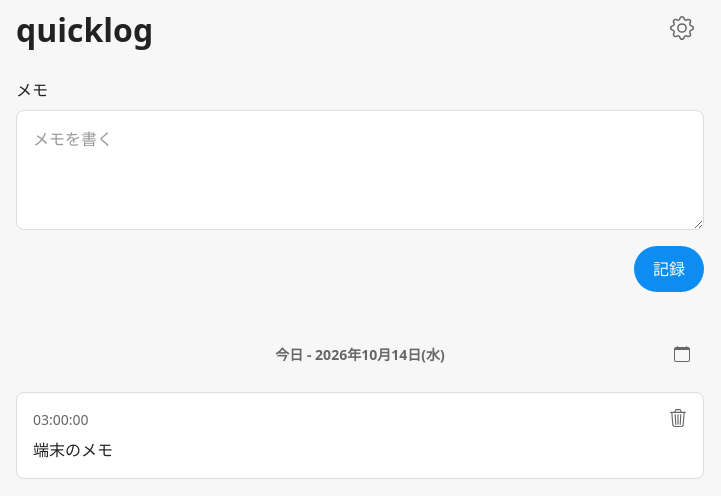
Test: App: ローカル操作から表示・永続化まで › 匿名の記録で削除を確定すると表示から除き削除履歴を保存する
The width and height of the screenshot is (721, 496).
Click the button named "削除".
click(678, 418)  # box [656,396,700,440]
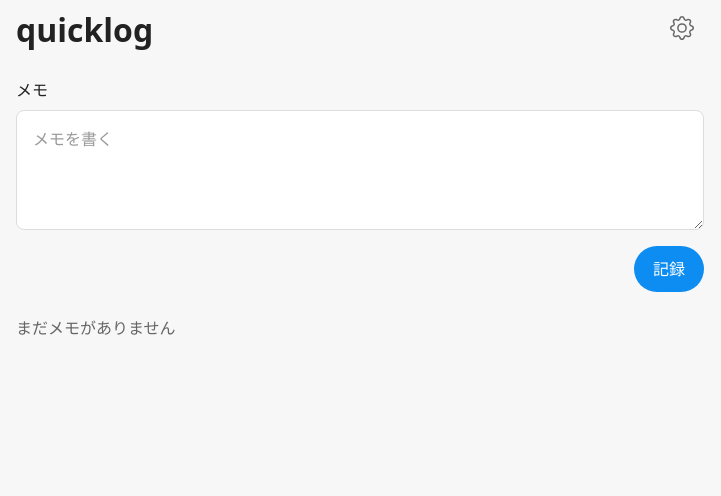
Expected: the text "端末のメモ" is gone
